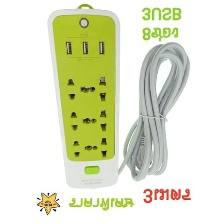three_eye_plug: (43, 3, 121, 193)
